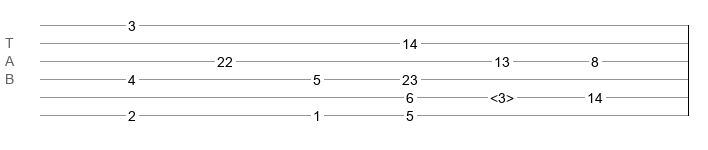1: (313, 108, 321, 118)
13: (494, 54, 510, 64)
14: (402, 36, 418, 46), (587, 90, 603, 100)
2: (128, 108, 136, 118)
22: (217, 54, 233, 64)
23: (402, 72, 418, 82)
3: (128, 18, 136, 28)
4: (128, 72, 136, 82)
5: (313, 72, 321, 82), (406, 108, 414, 118)
6: (406, 90, 414, 100)
8: (591, 54, 599, 64)
harmonic: (490, 90, 514, 100)
